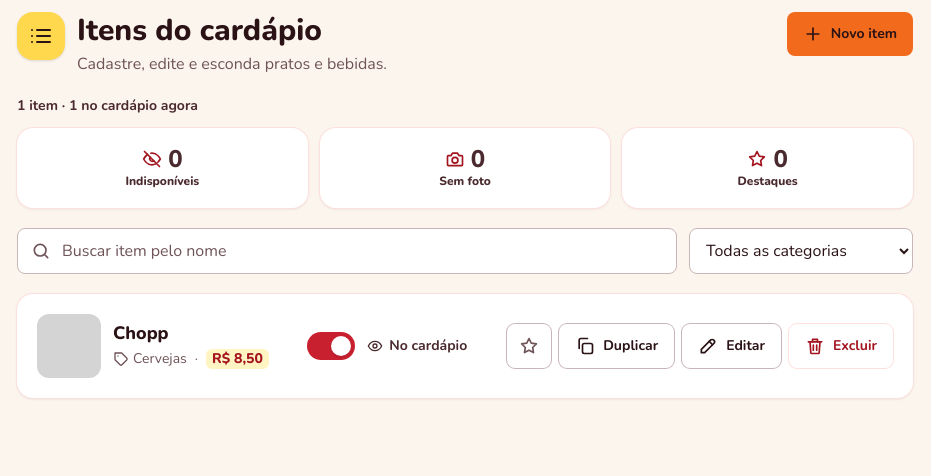
ItemsPage (proprietário) › resumo e filtros rápidos › filtro sem resultado mostra a mensagem de vazio
Click the button with aria-label "Sem foto: 0" at point(465, 168), box [320,128,610,208]
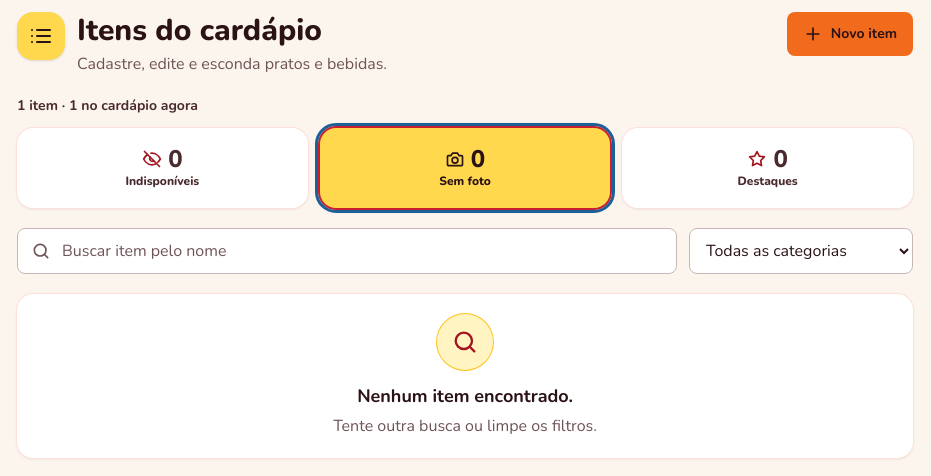
expect the text "Nenhum item encontrado." is shown: met, box [357,384,573,408]
